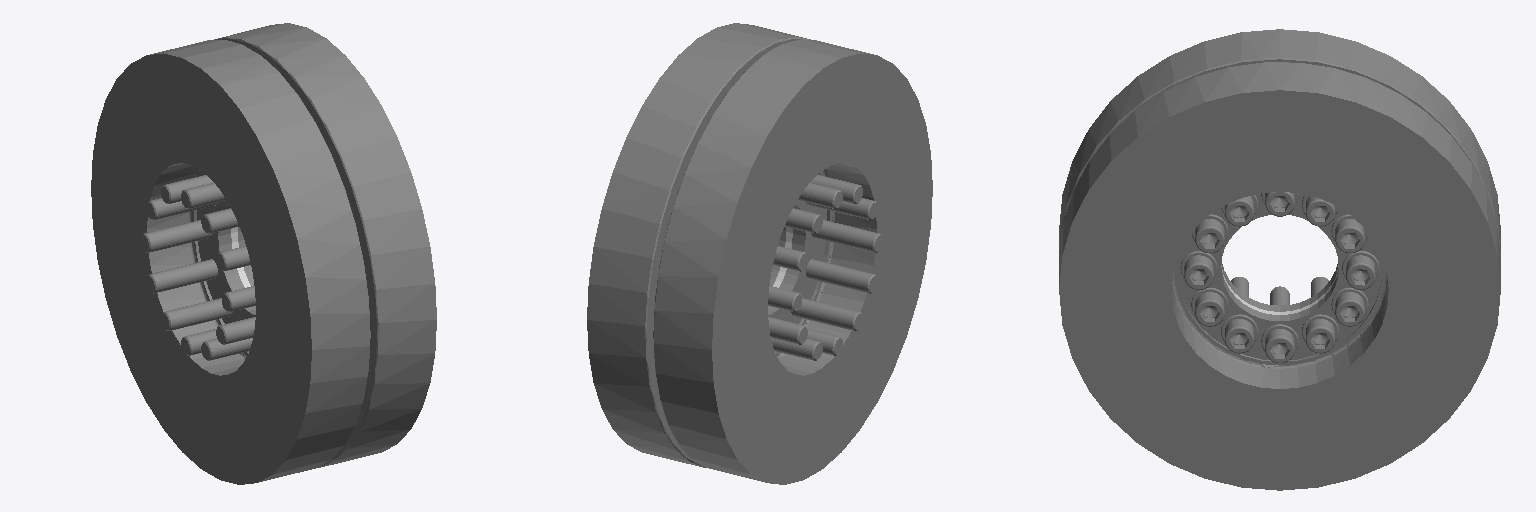
The picture shows the model from 3 angles: view 1: azimuth 30°, elevation 25°; view 2: azimuth 150°, elevation 25°; view 3: azimuth 270°, elevation 25°; orthographic projection.
Parts seen in each view (by area): view 1: 106-02-020/Vibration damper attach, 106-02-020/Vibration damper main, 106-02-020/Screw; view 2: 106-02-020/Vibration damper attach, 106-02-020/Vibration damper main, 106-02-020/Screw; view 3: 106-02-020/Vibration damper main, 106-02-020/Vibration damper attach, 106-02-020/Screw.
Boxes of the visible parts, x1,y1,x2,y2 form: 106-02-020/Vibration damper attach: [91, 40, 370, 484]; 106-02-020/Vibration damper main: [214, 23, 436, 467]; 106-02-020/Screw: [141, 175, 255, 360]; 106-02-020/Vibration damper attach: [653, 39, 932, 484]; 106-02-020/Vibration damper main: [587, 23, 810, 467]; 106-02-020/Screw: [768, 175, 882, 360]; 106-02-020/Vibration damper main: [1059, 62, 1500, 490]; 106-02-020/Vibration damper attach: [1059, 29, 1500, 311]; 106-02-020/Screw: [1180, 192, 1379, 362].
Size of the model in its own units: 131 by 355 by 355.